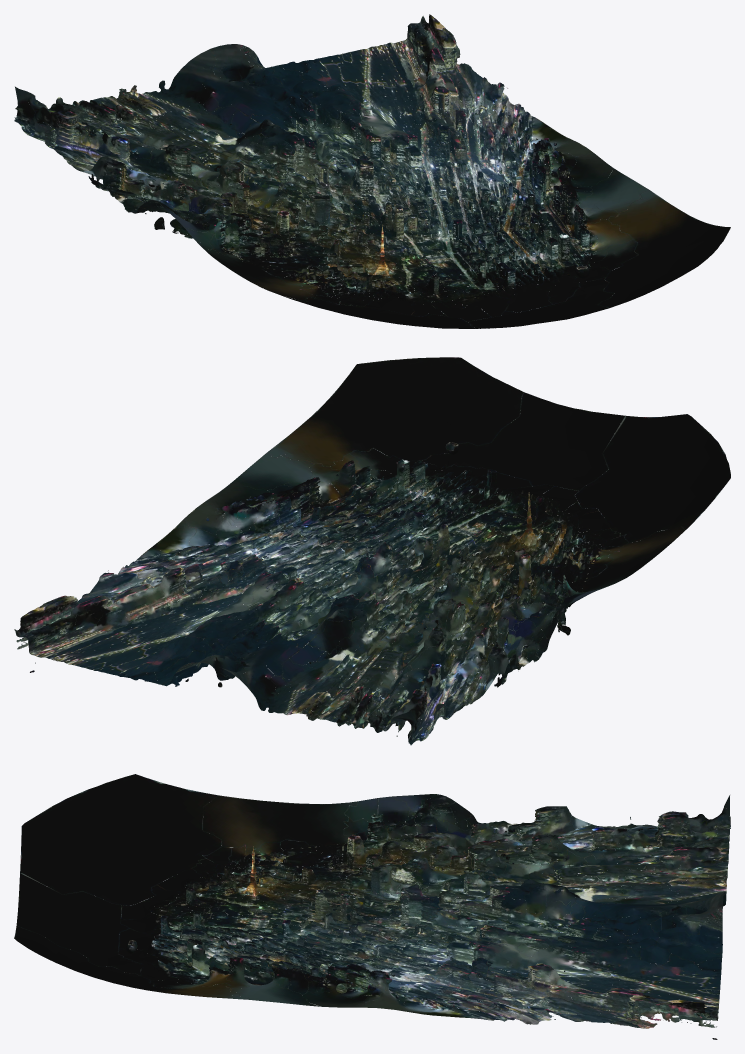
File: tokyo-desk.glb
3 renders of one model, top to bottom at view 1: azimuth 30°, elevation 25°; view 2: azimuth 150°, elevation 25°; view 3: azimuth 270°, elevation 25°, orthographic. The views are drawn at different scales.
Visible parts, largest first — view 1: Object_2, Object_6, Object_10; view 2: Object_2, Object_6, Object_10; view 3: Object_6, Object_2, Object_10.
Boxes of the visible parts, box(x1,y1,x2,y2) form: Object_2: box(28, 16, 730, 317); Object_6: box(14, 14, 638, 328); Object_10: box(19, 29, 648, 328); Object_2: box(14, 357, 685, 738); Object_6: box(17, 414, 730, 745); Object_10: box(16, 392, 624, 741); Object_6: box(20, 774, 730, 1039); Object_2: box(14, 794, 726, 1039); Object_10: box(16, 796, 729, 1027).
Size of the model in its own units: 95.59 by 16.47 by 145.
Materials: 3 (3 with a texture image).
